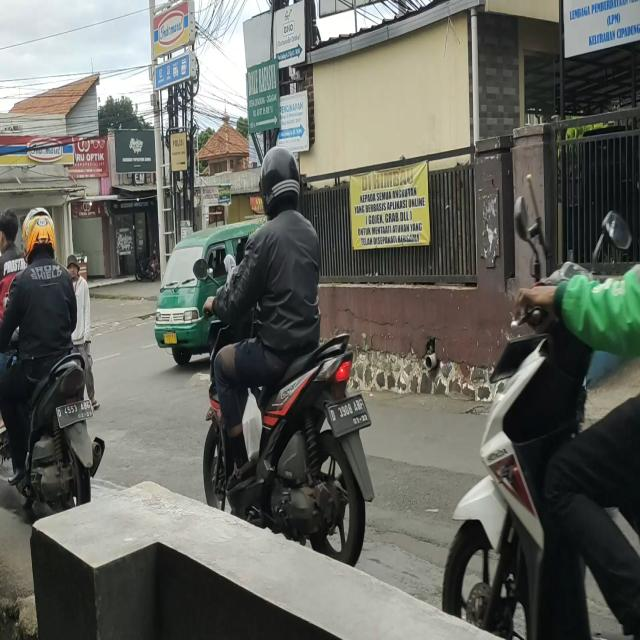helmet: (263, 149, 301, 216), (24, 210, 59, 258)
no-helmet: (1, 208, 17, 252)
